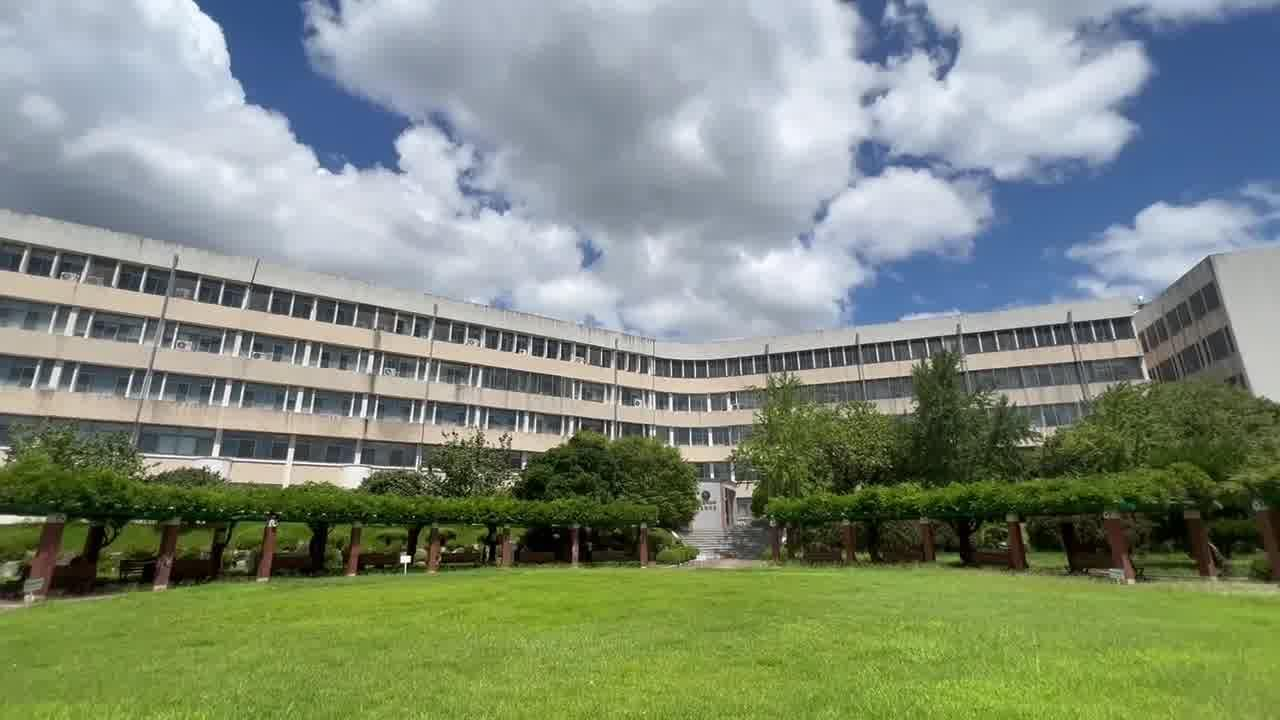building: (2, 222, 746, 437)
